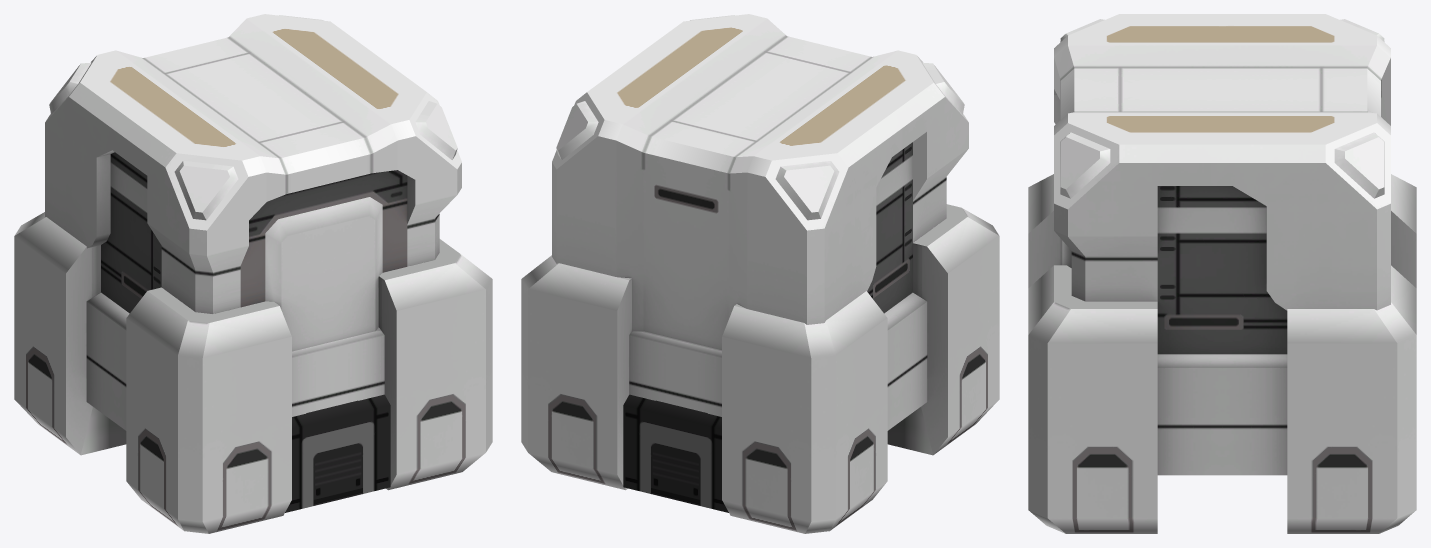
File: storage-1.glb
3 views of the same model, side by side, from view 1: azimuth 30°, elevation 25°; view 2: azimuth 150°, elevation 25°; view 3: azimuth 270°, elevation 25° (orthographic). The views are drawn at different scales.
Visible parts, largest first — view 1: storage-1-b, storage-1-c; view 2: storage-1-b, storage-1-c; view 3: storage-1-b.
Boxes of the visible parts, x1,y1,x2,y2 form: storage-1-b: (14, 14, 492, 533); storage-1-c: (285, 394, 390, 512); storage-1-b: (521, 14, 999, 533); storage-1-c: (623, 394, 728, 512); storage-1-b: (1028, 14, 1416, 533).
Bounding box in the file's own units: 3 × 3.32 × 3.
Materials: 1 (1 with a texture image).
